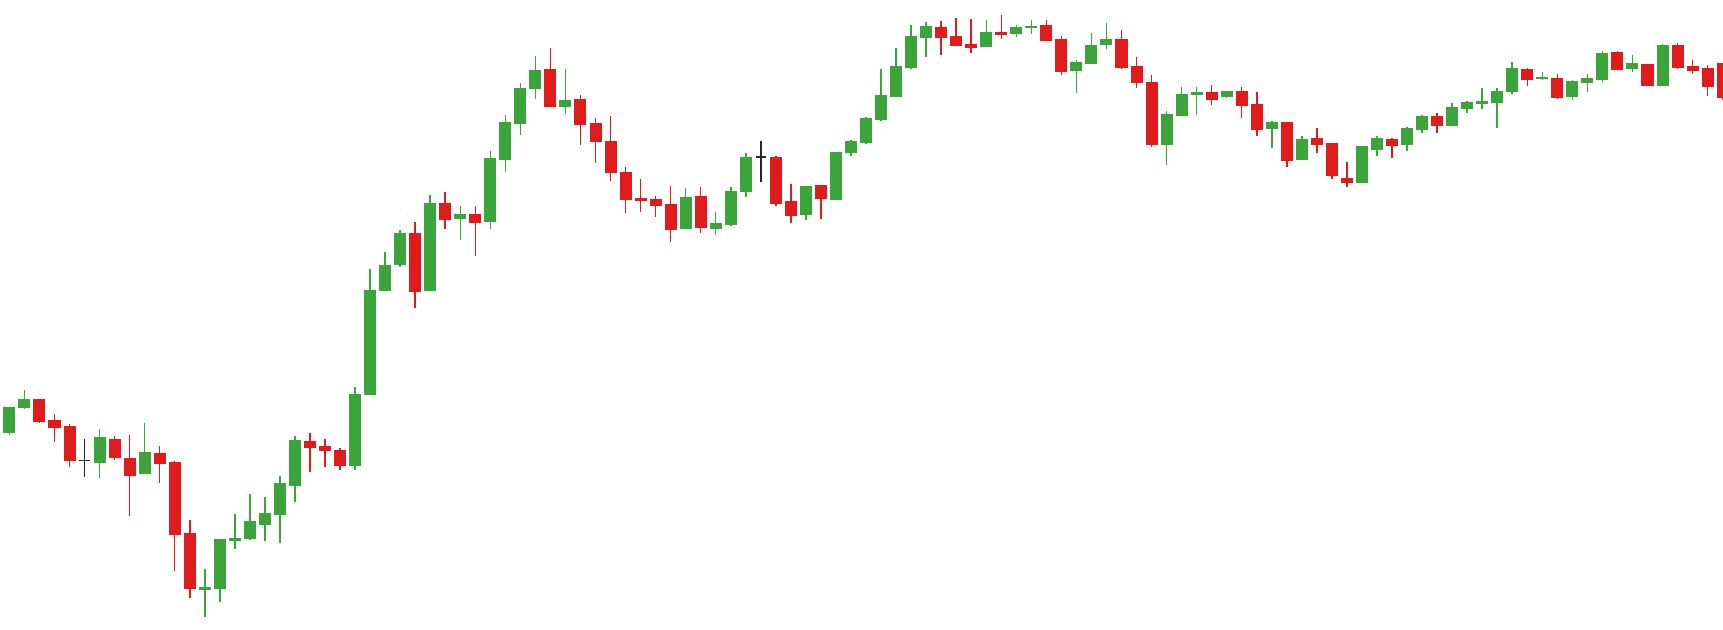sell: (1505, 48, 1625, 81)
